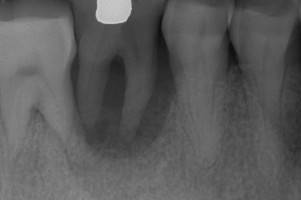Dental Caries: (70, 47, 174, 158)
